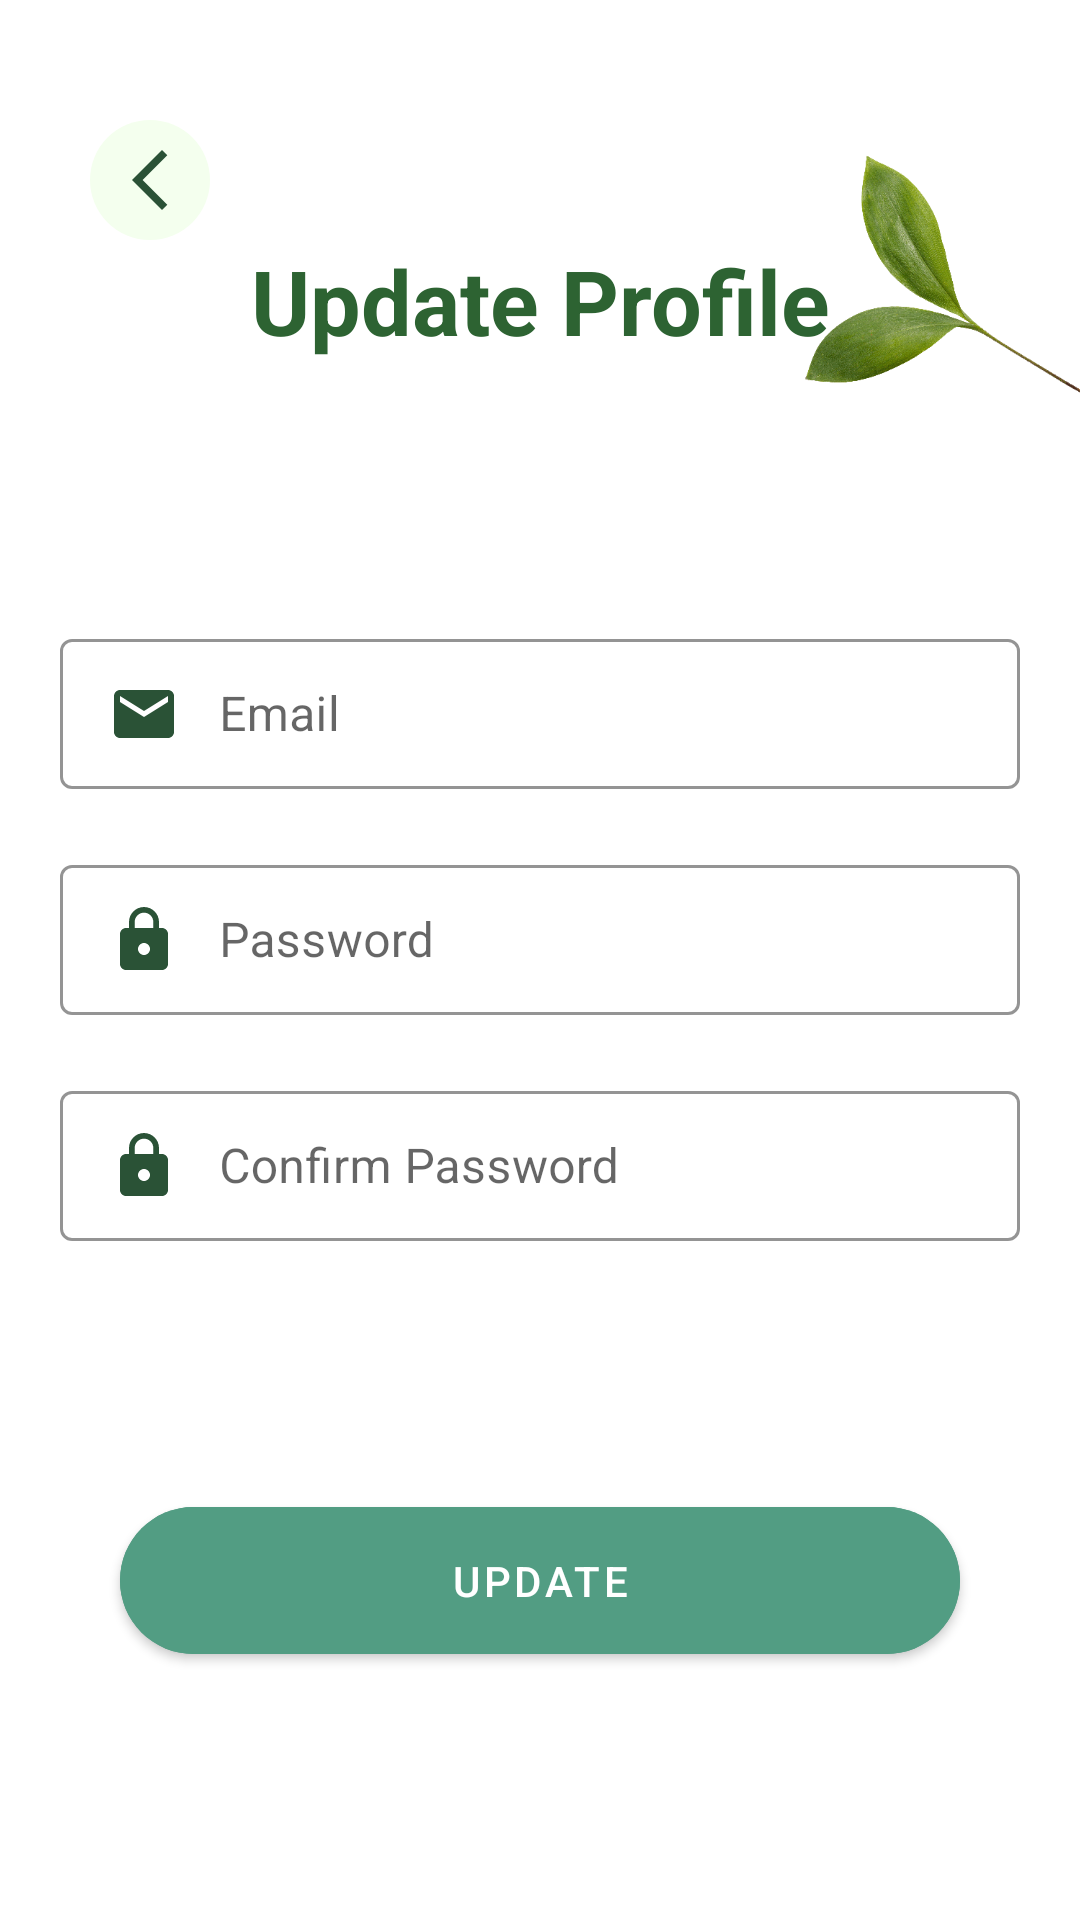

Named icons in this screenshot (1080*1920) and their centers, [x,y]:
back arrow: [150,180]
